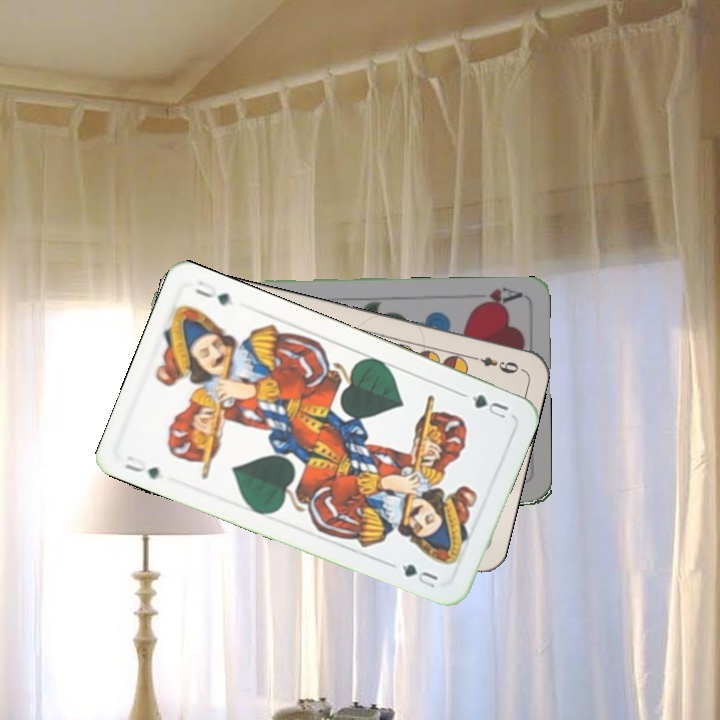E9: (466, 351, 522, 376)
GU: (467, 390, 511, 421), (120, 451, 162, 482)
HA: (468, 284, 524, 311)
